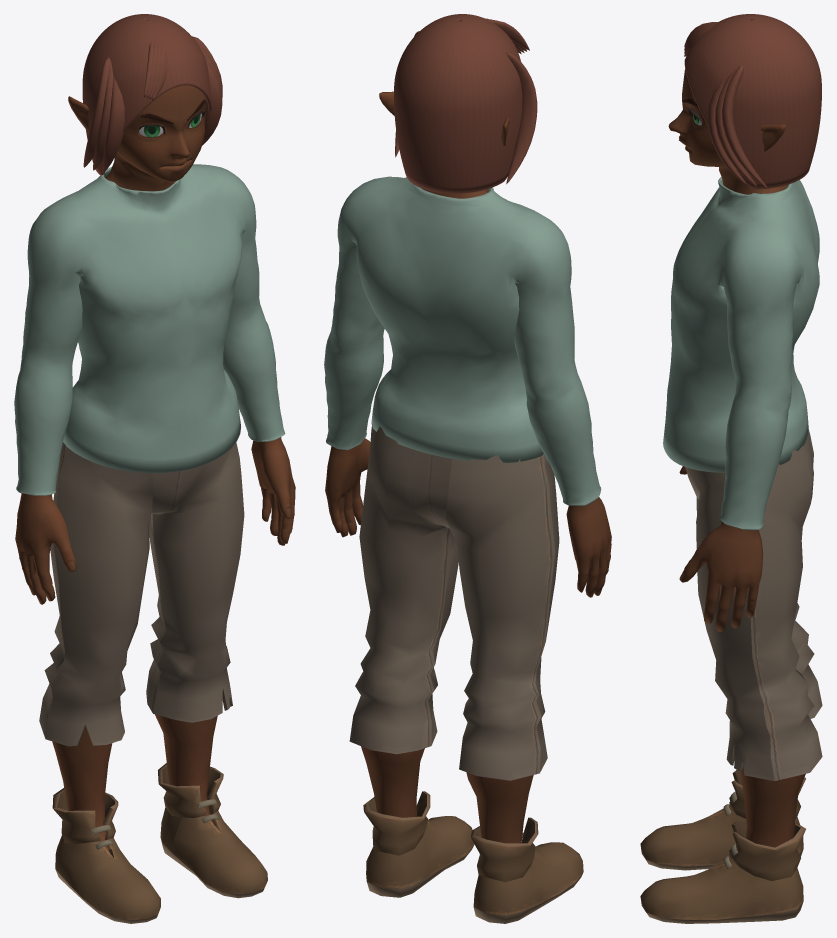
The model's file is girl-dark.glb.
3 renders of one model, left to right at view 1: azimuth 30°, elevation 25°; view 2: azimuth 150°, elevation 25°; view 3: azimuth 270°, elevation 25°, orthographic. The views are drawn at different scales.
Visible parts, largest first — view 1: girl • Plain shirt • neutral sage, girl • Pant_043__Mt_Lower_043, girl • continuous skin, Hair • detailed girl; view 2: girl • Pant_043__Mt_Lower_043, girl • Plain shirt • neutral sage, Hair • detailed girl, girl • continuous skin; view 3: girl • Plain shirt • neutral sage, girl • Pant_043__Mt_Lower_043, Hair • detailed girl, girl • continuous skin.
Boxes of the visible parts, bbox=[...] form: girl • Plain shirt • neutral sage: bbox=[14, 164, 285, 495]; girl • Pant_043__Mt_Lower_043: bbox=[39, 442, 267, 923]; girl • continuous skin: bbox=[15, 85, 295, 852]; Hair • detailed girl: bbox=[82, 14, 222, 175]; girl • Pant_043__Mt_Lower_043: bbox=[349, 424, 583, 923]; girl • Plain shirt • neutral sage: bbox=[324, 176, 601, 505]; Hair • detailed girl: bbox=[394, 14, 537, 193]; girl • continuous skin: bbox=[325, 91, 611, 843]; girl • Plain shirt • neutral sage: bbox=[663, 177, 819, 530]; girl • Pant_043__Mt_Lower_043: bbox=[640, 429, 822, 923]; Hair • detailed girl: bbox=[684, 14, 821, 189]; girl • continuous skin: bbox=[668, 69, 805, 847].
Bounding box in the file's own units: 0.5778 × 1.76 × 0.3363.
Materials: 11 (10 with a texture image).
